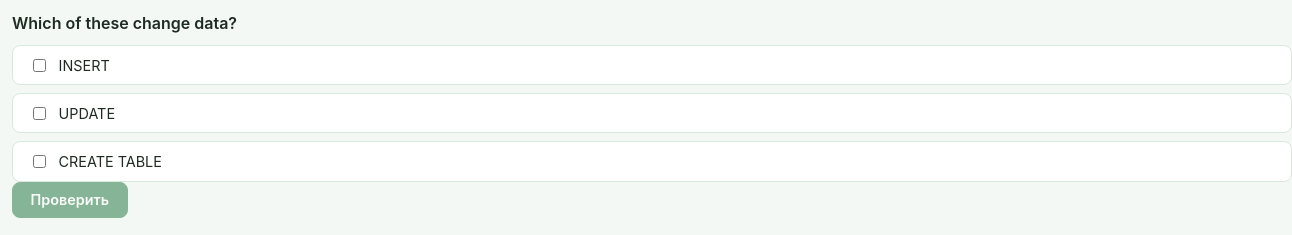
Test case: QuizView with a multi-select quiz › renders checkboxes with a submit button that stays disabled until something is checked
The image size is (1292, 235).
Expected: the button "Проверить" is disabled, [12, 182, 128, 218]
Click the checkbox labelled "INSERT": (40, 65) [33, 59, 46, 72]
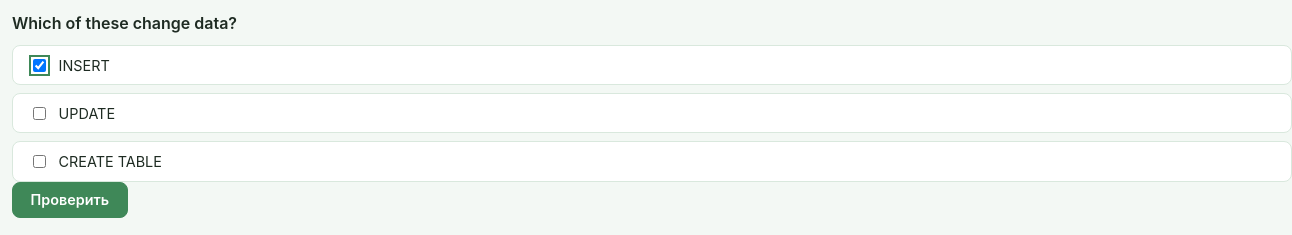
Result: the button "Проверить" is enabled at [12, 182, 128, 218]
